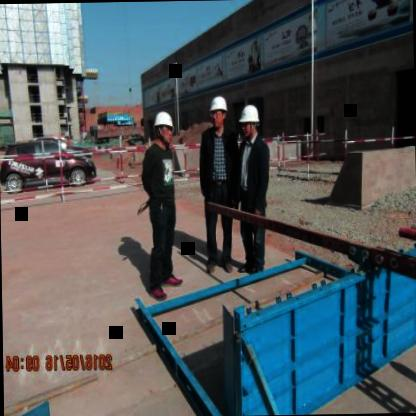helmet: (148, 106, 176, 146), (236, 102, 260, 142), (208, 93, 230, 128)
